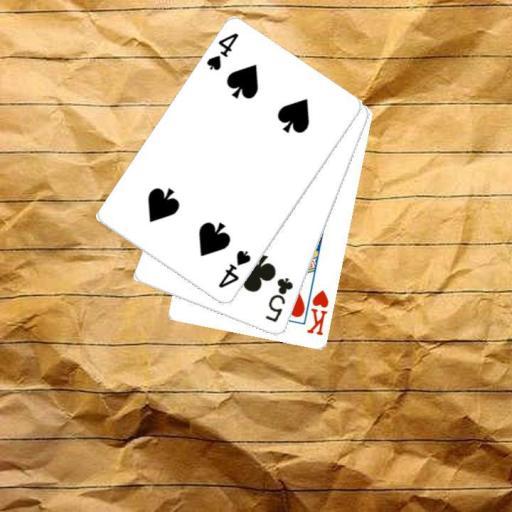4S: (216, 248, 253, 290), (204, 30, 241, 72)
5C: (263, 275, 295, 325)
KH: (304, 287, 331, 337)
